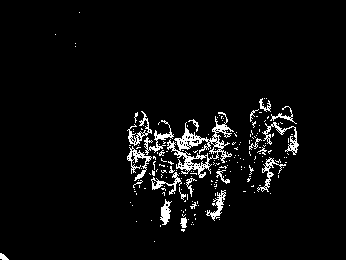person: (208, 112, 244, 222), (174, 117, 207, 233), (151, 116, 179, 227), (127, 109, 155, 209), (269, 102, 298, 196), (247, 94, 272, 184)
